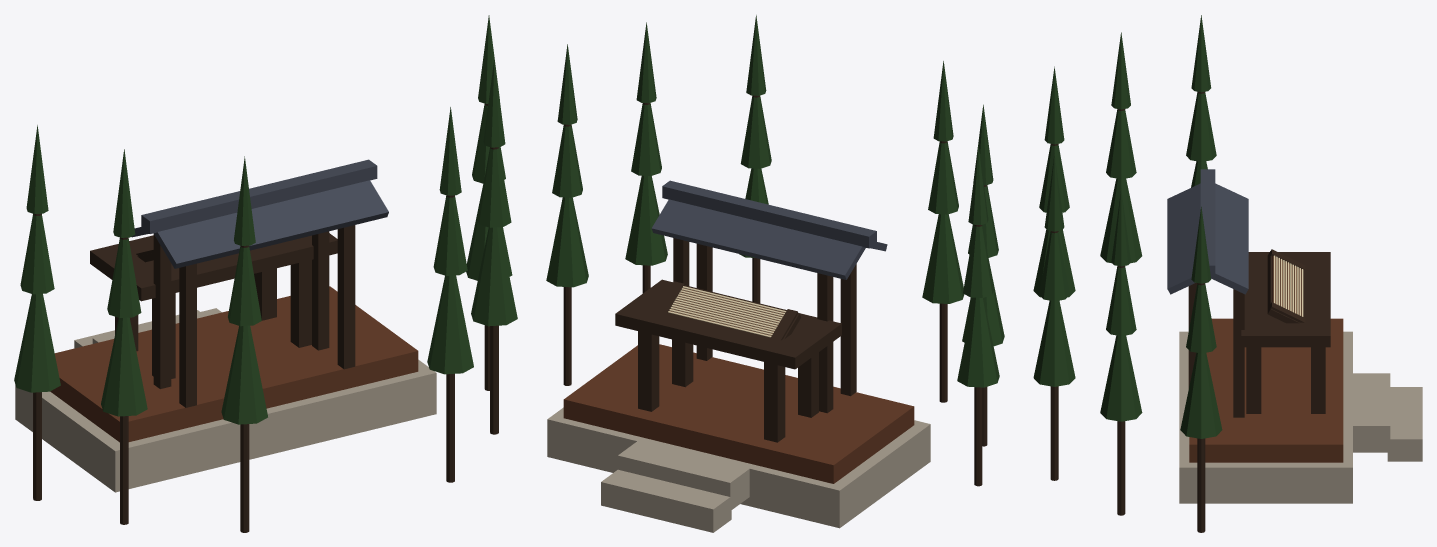
The model's file is station_琴台.glb.
3 renders of one model, left to right at view 1: azimuth 30°, elevation 25°; view 2: azimuth 150°, elevation 25°; view 3: azimuth 270°, elevation 25°, orthographic. The views are drawn at different scales.
Visible parts, largest first — view 1: 琴台; view 2: 琴台; view 3: 琴台.
Part boxes in pixels (box(x1,y1,x2,y2)): 琴台: box(14, 15, 517, 532); 琴台: box(546, 15, 1004, 532); 琴台: box(1033, 15, 1422, 532).
Size of the model in its own units: 2 by 1.45 by 1.57.
